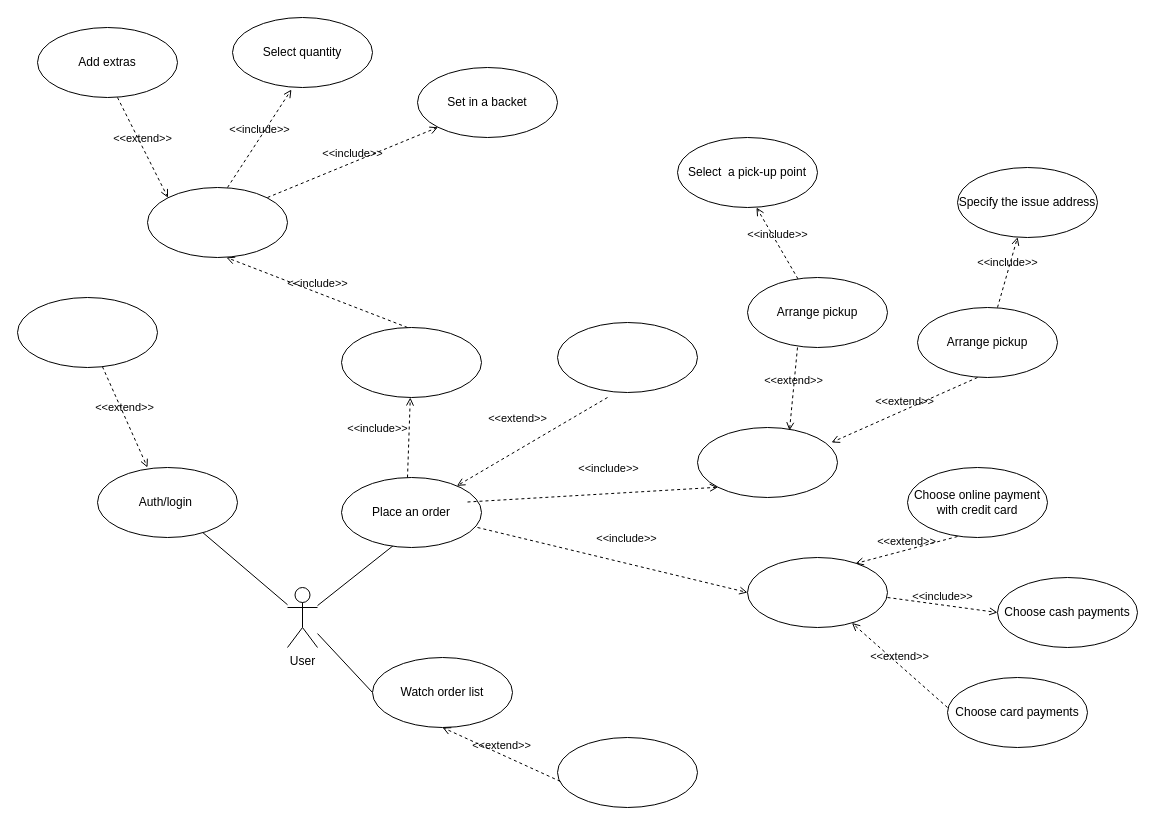
This 1155x825 diagram has some shape labels left out. Each missing label, with the centre of its shape:
"Choose item" belongs at pixel 217 222.
"Choose the payment" belongs at pixel 817 592.
"Choose the type of delivery" belongs at pixel 767 462.
"Get a catalog" belongs at pixel 411 362.
"Register" belongs at pixel 87 332.
"Select order" belongs at pixel 627 772.
"Use a promo voucher" belongs at pixel 627 357.
